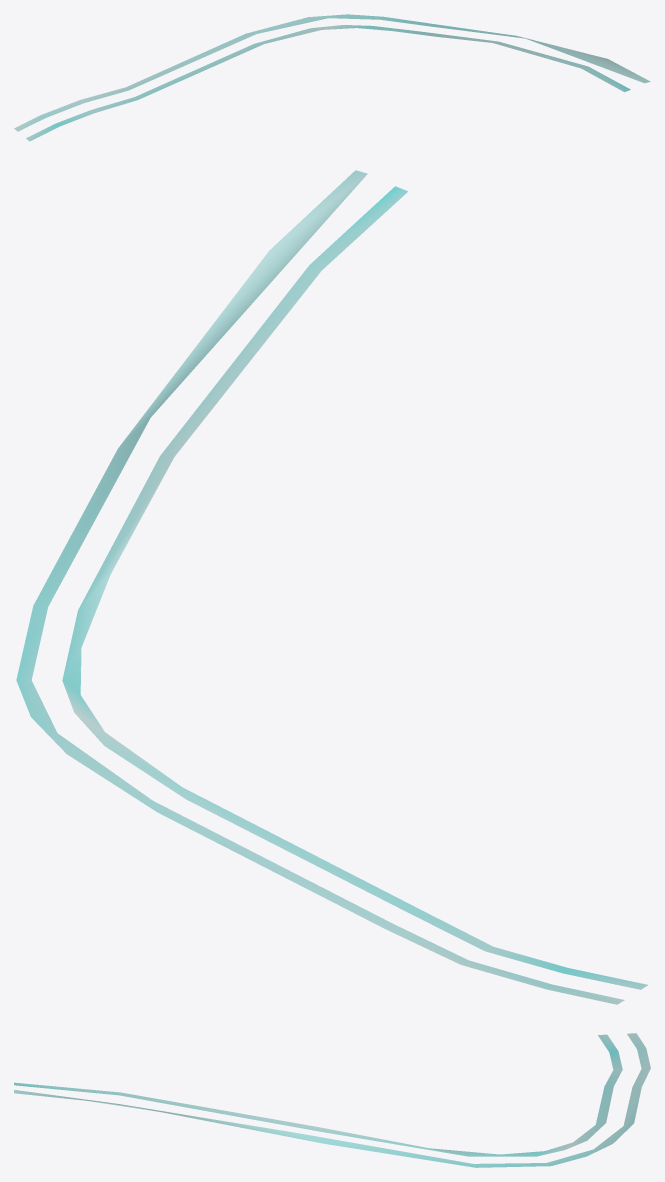
Rendered from cell_82_60.fbx.
3 views of the same model, one above another, from view 1: azimuth 30°, elevation 25°; view 2: azimuth 150°, elevation 25°; view 3: azimuth 270°, elevation 25° (orthographic). The views are drawn at different scales.
Parts seen in each view (by area): view 1: SpaceCenter_Long3_GenerateRoad_Sand_TireTracks_Narrow_Mesh_.; view 2: SpaceCenter_Long3_GenerateRoad_Sand_TireTracks_Narrow_Mesh_.; view 3: SpaceCenter_Long3_GenerateRoad_Sand_TireTracks_Narrow_Mesh_..
Part boxes in pixels (left/top/right/bottom): SpaceCenter_Long3_GenerateRoad_Sand_TireTracks_Narrow_Mesh_.: left=14, top=14, right=650, bottom=141; SpaceCenter_Long3_GenerateRoad_Sand_TireTracks_Narrow_Mesh_.: left=16, top=170, right=647, bottom=1004; SpaceCenter_Long3_GenerateRoad_Sand_TireTracks_Narrow_Mesh_.: left=14, top=1033, right=650, bottom=1167.
Size of the model in its own units: 34.85 by 12.14 by 40.72.
